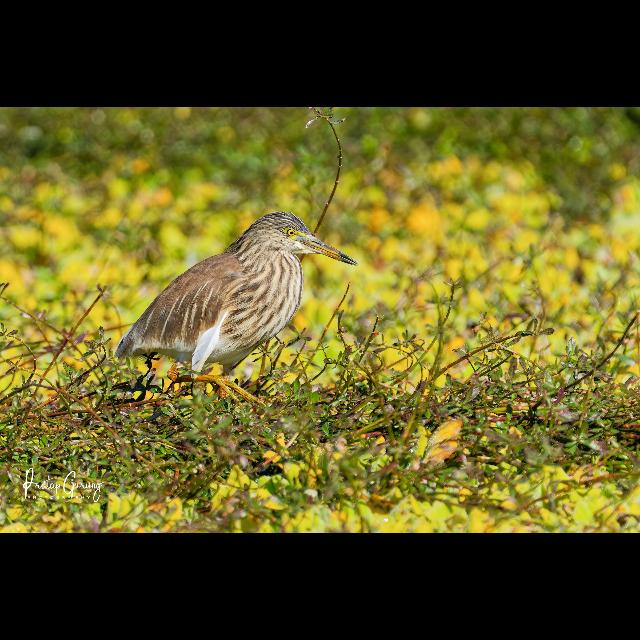heron: (125, 211, 352, 393)
